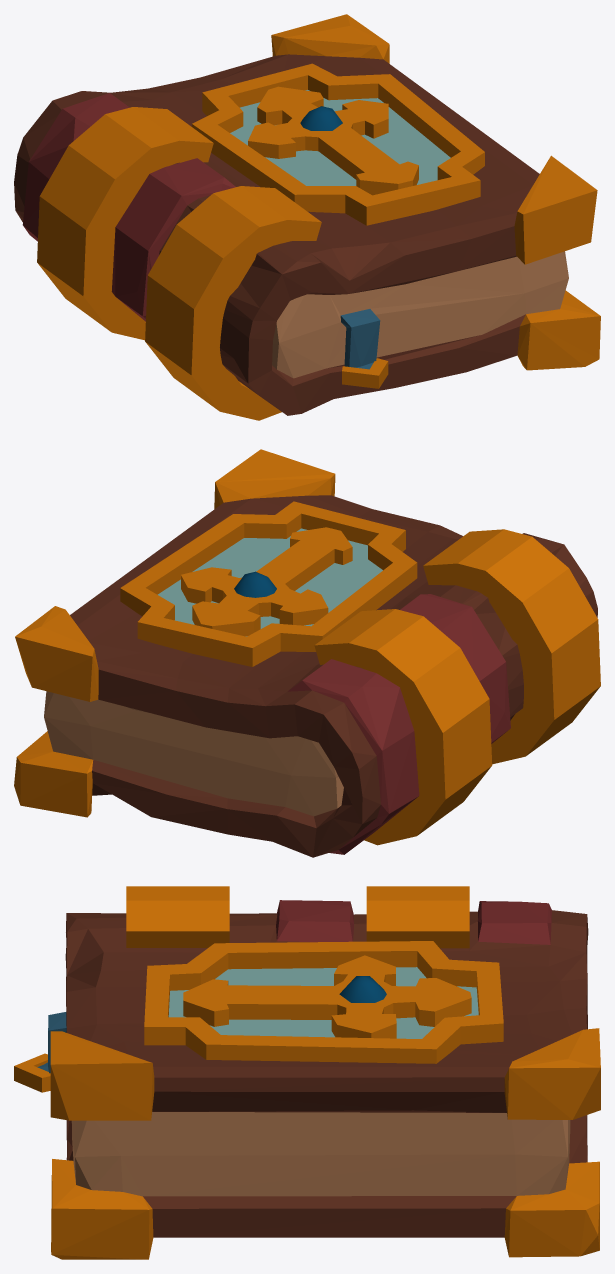
File: MDungeon_Book_01.FBX
The picture shows the model from 3 angles, top to bottom: view 1: azimuth 30°, elevation 25°; view 2: azimuth 150°, elevation 25°; view 3: azimuth 270°, elevation 25°; orthographic projection. The views are drawn at different scales.
Visible parts, largest first — view 1: MDgn_Book_01_LOD0; view 2: MDgn_Book_01_LOD0; view 3: MDgn_Book_01_LOD0.
Part boxes in pixels (x1,y1,x2,y2): MDgn_Book_01_LOD0: [14, 14, 600, 420]; MDgn_Book_01_LOD0: [14, 449, 600, 857]; MDgn_Book_01_LOD0: [14, 886, 600, 1259].
Size of what is drawn, in the model's own units: 0.5224 by 0.2578 by 0.6337.
